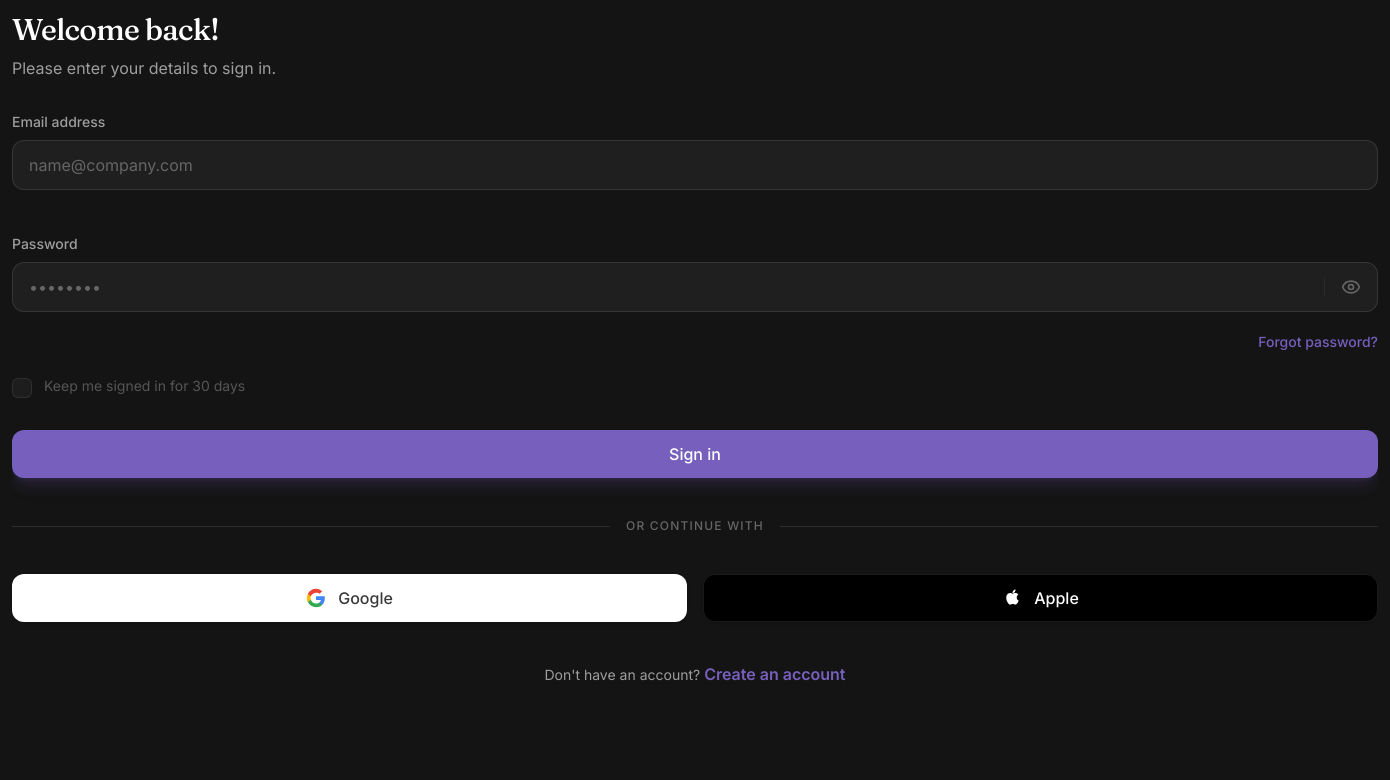
Test case: LoginForm › shows the error detail from the API on failed login
Type "bad@example.com" into the field with placeholder "name@company.com". click: (695, 165)
box: [13,141,1377,189]
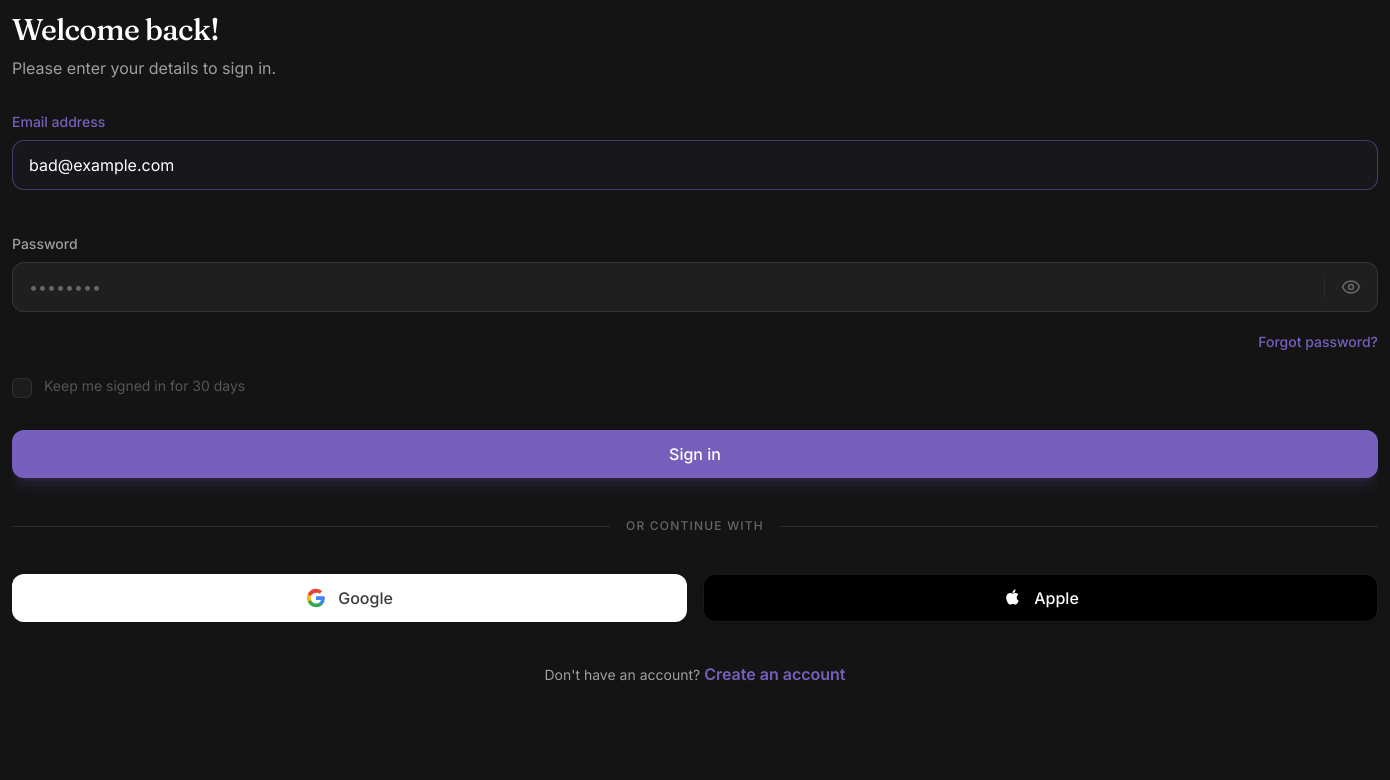
Type "wrongpassword" into the password field with placeholder "••••••••". click: (668, 287)
box: [13,263,1324,311]
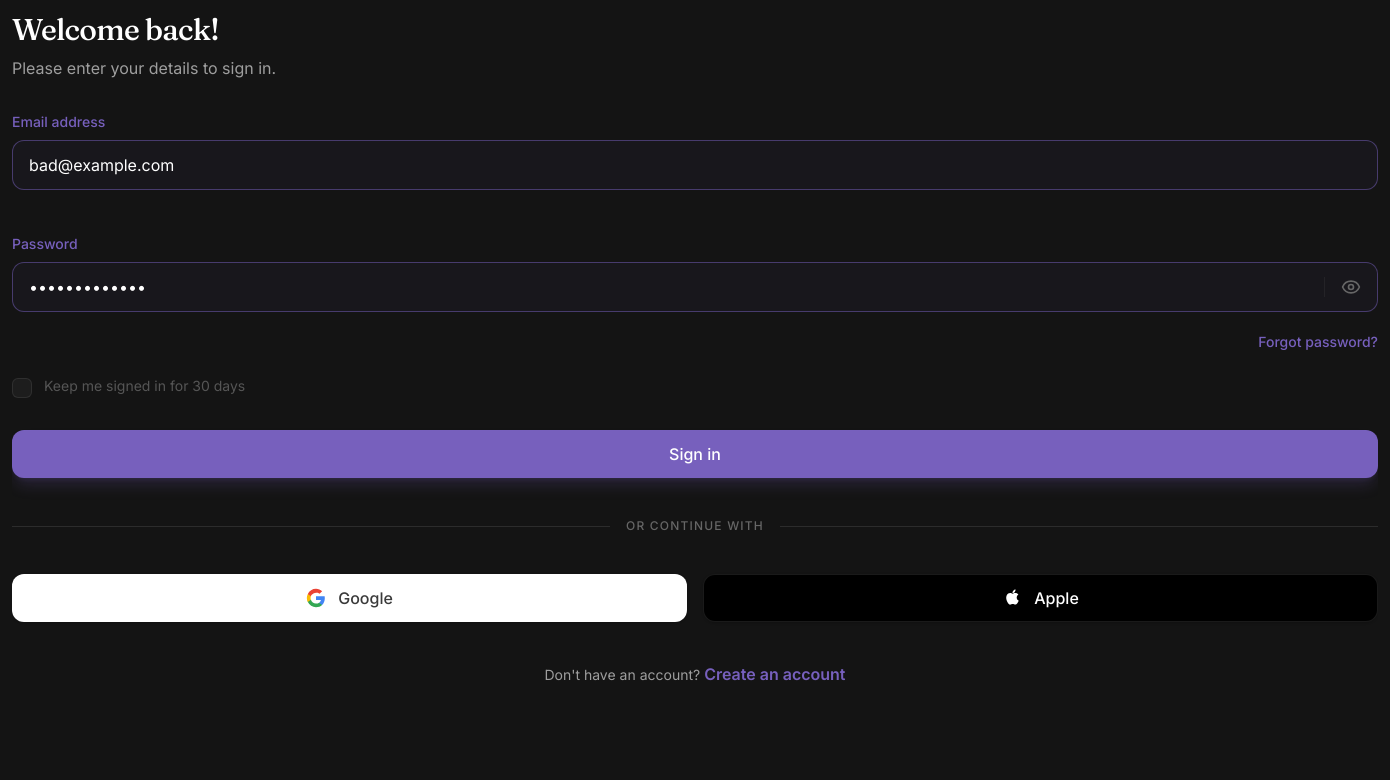
Click the button "Sign in". click: (695, 454)
box: [12,430,1378,478]
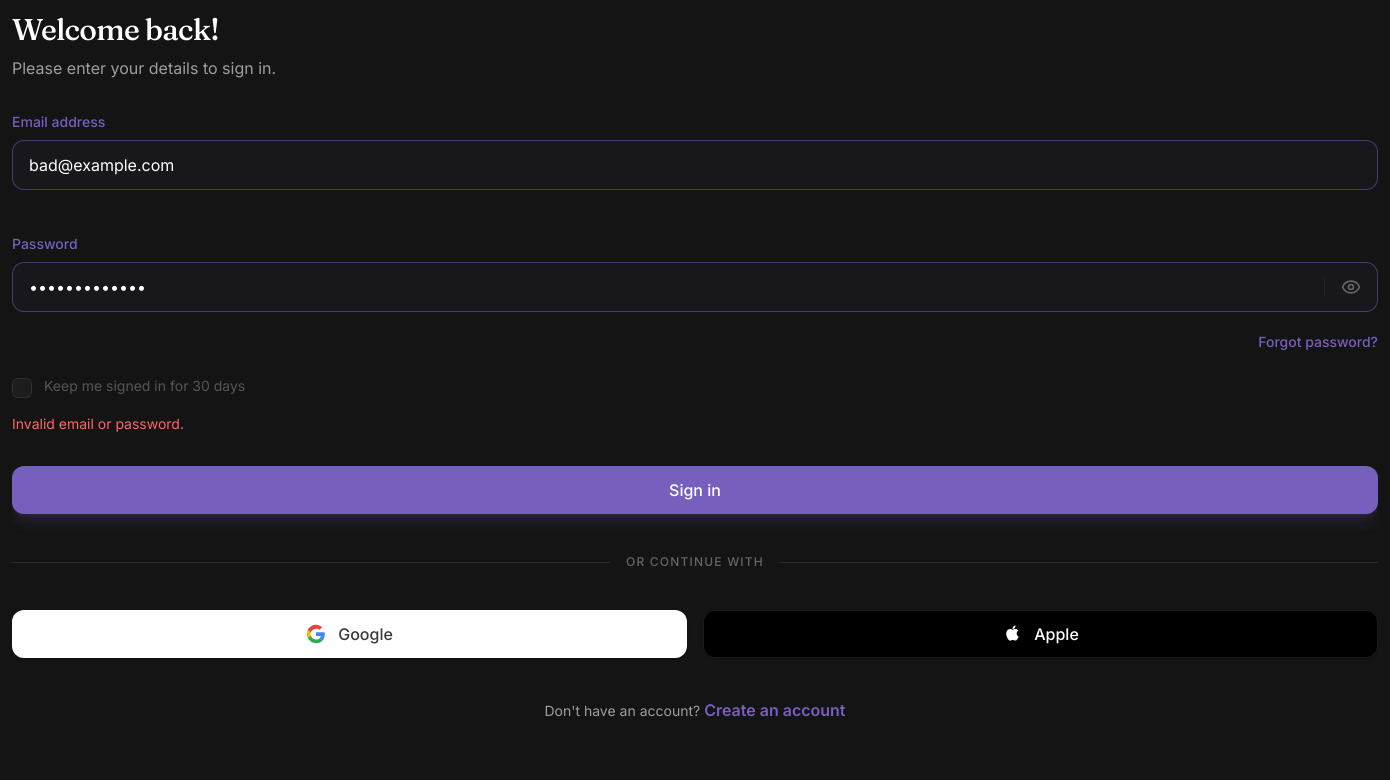
Check: the text "Invalid email or password." is shown, box [12,415,184,432]
